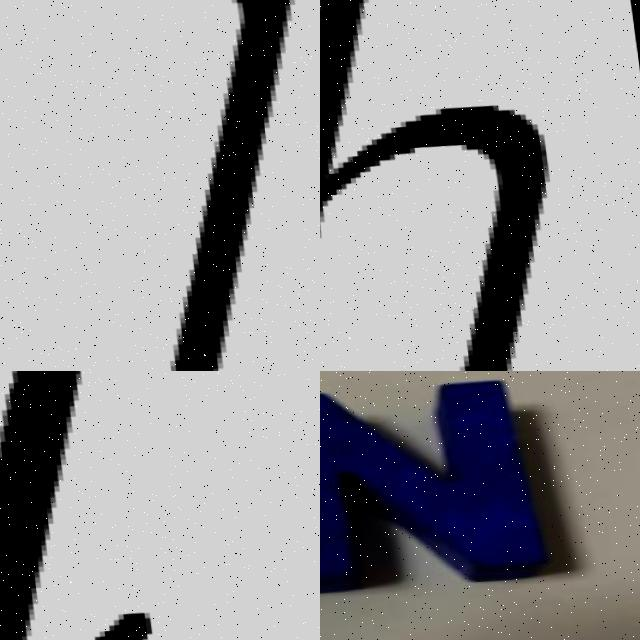H: (320, 0, 548, 371)
L: (46, 0, 320, 371)
N: (320, 371, 545, 596)
T: (0, 371, 245, 640)
